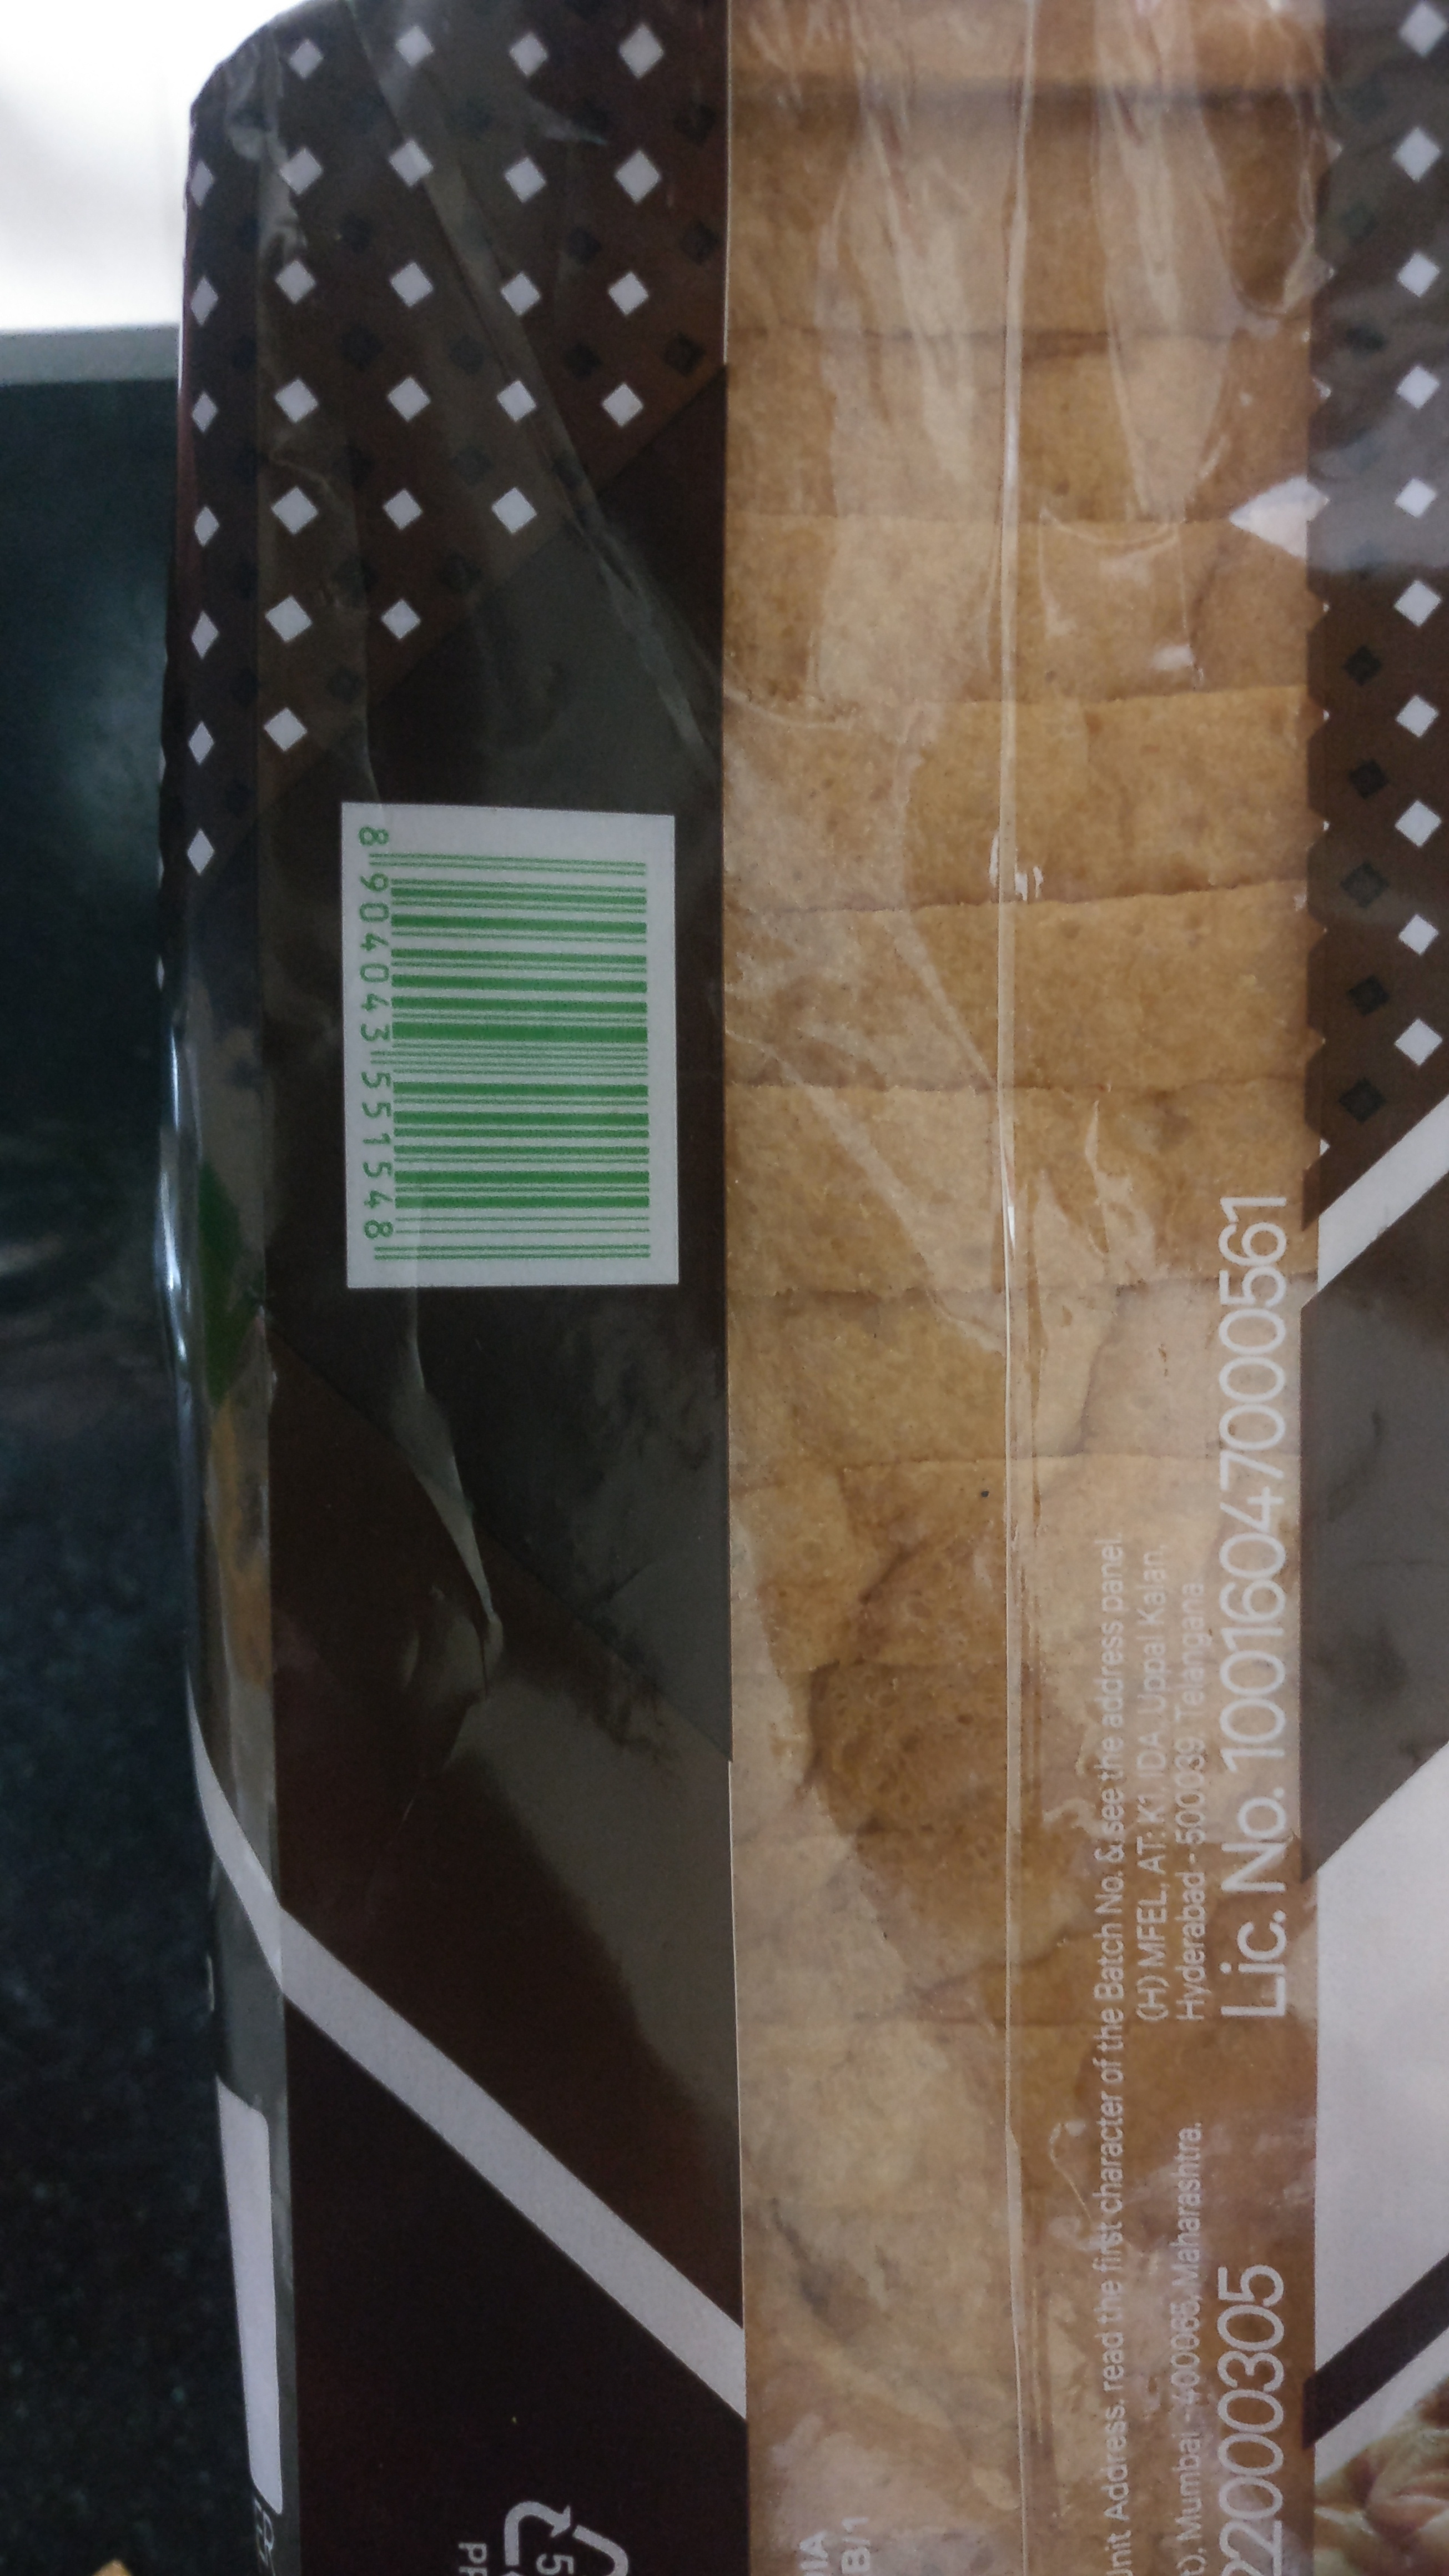barcode: (343, 810, 678, 1293)
